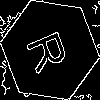R: (25, 25, 77, 76)
